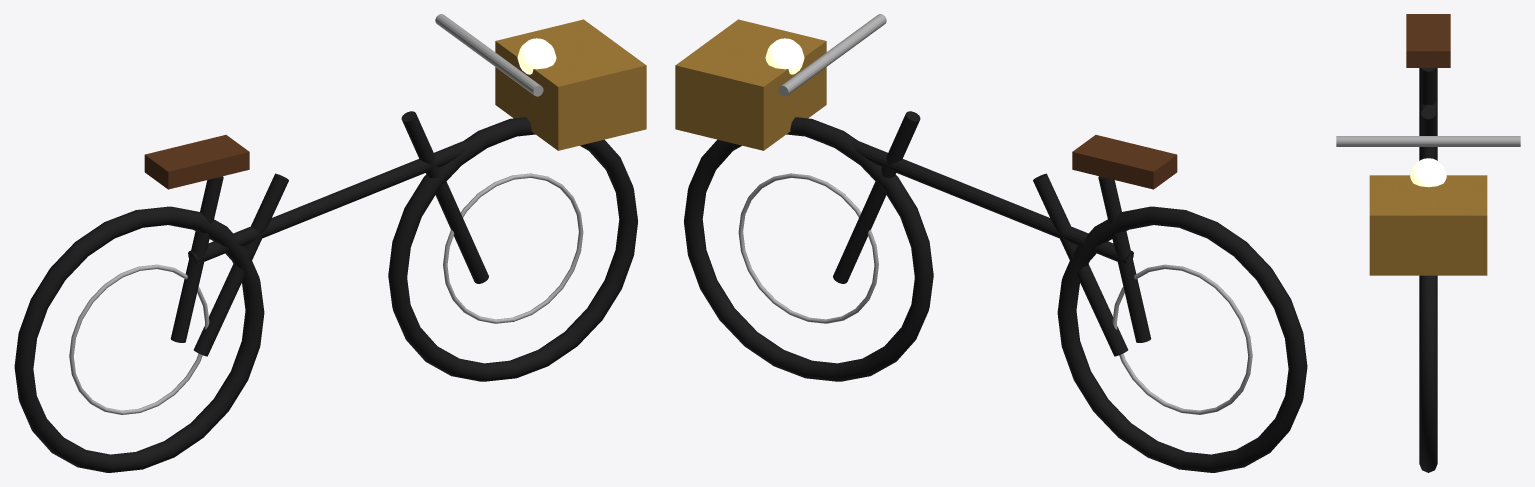
File: ontel.glb
3 views of the same model, side by side, from view 1: azimuth 30°, elevation 25°; view 2: azimuth 150°, elevation 25°; view 3: azimuth 270°, elevation 25° (orthographic). The views are drawn at different scales.
Parts seen in each view (by area): view 1: Torus; view 2: Torus; view 3: Torus.
Boxes of the visible parts, x1,y1,x2,y2 form: Torus: (14,14,646,472); Torus: (675,14,1307,472); Torus: (1336,14,1520,472).
Size of the model in its own units: 1.95 by 1 by 0.5319.
1 material, 1 textured.
